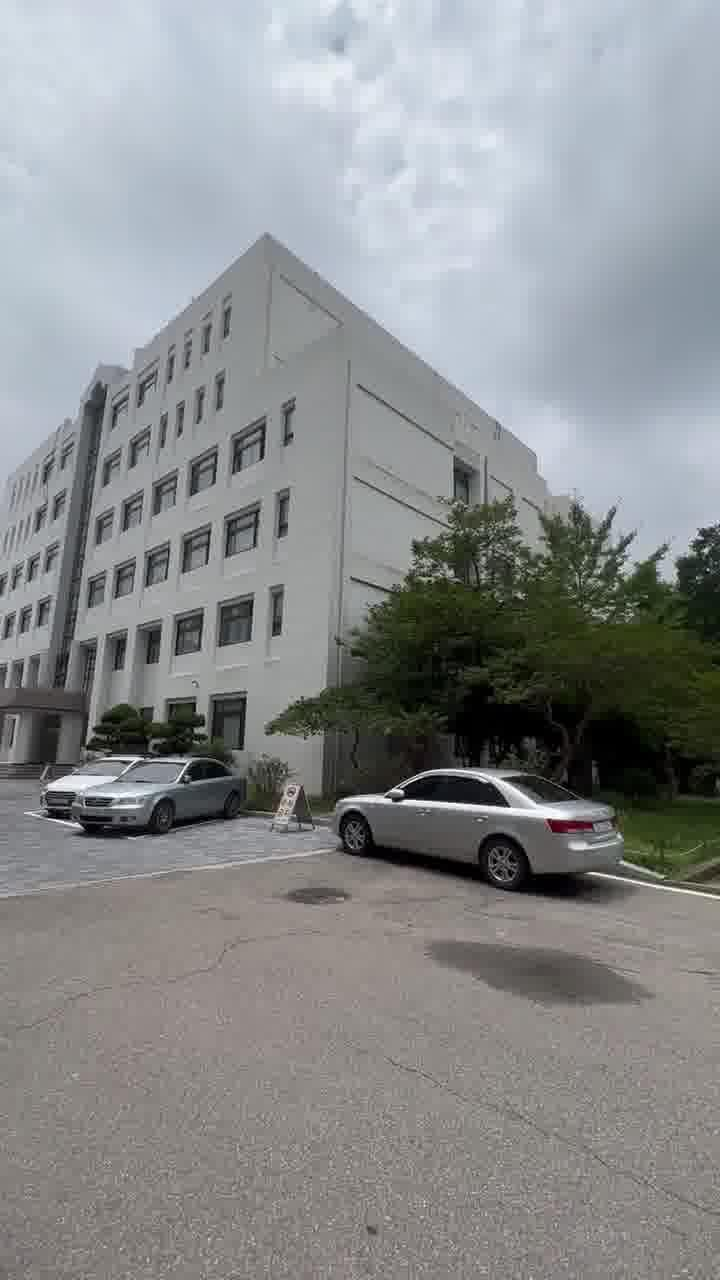building: (44, 270, 324, 758)
